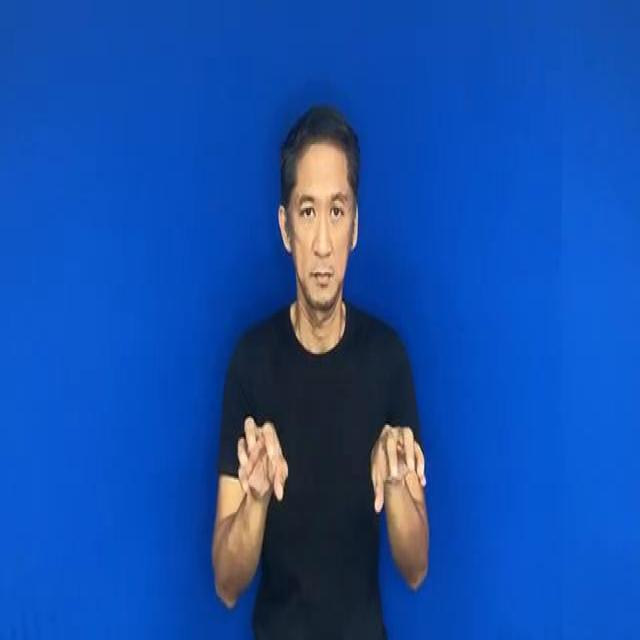egg: (212, 395, 440, 531)
